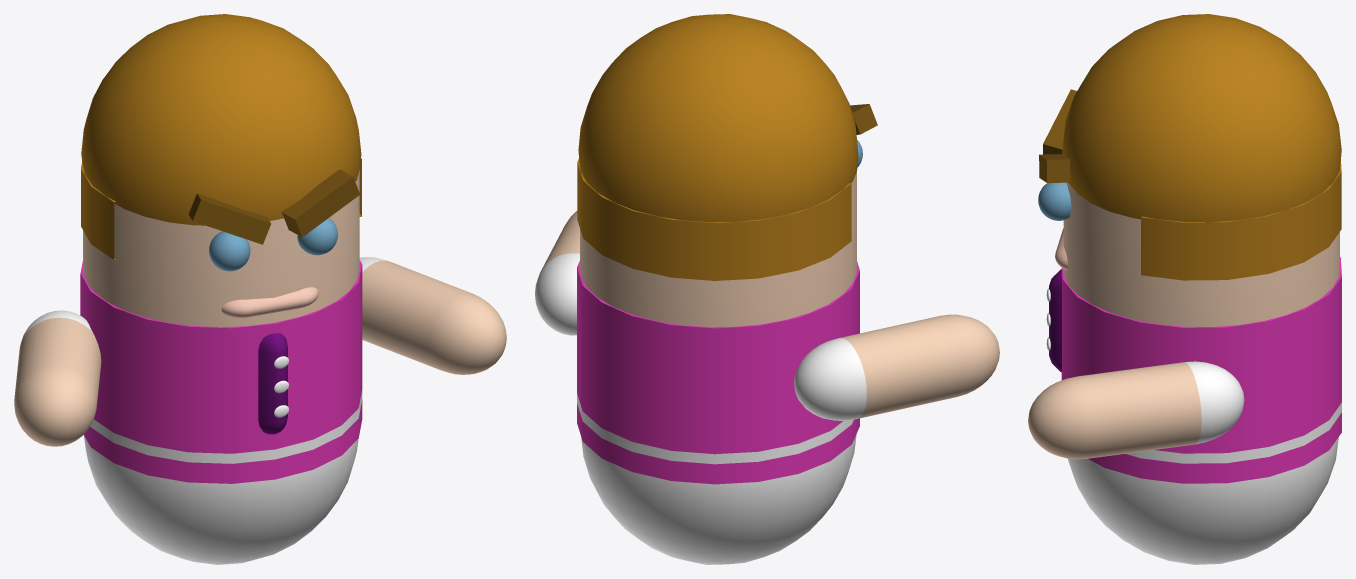
The model's file is karen.fbx.
The picture shows the model from 3 angles, left to right: view 1: azimuth 30°, elevation 25°; view 2: azimuth 150°, elevation 25°; view 3: azimuth 270°, elevation 25°; orthographic projection.
Visible parts, largest first — view 1: Hair, ChefShirt, Body, Pants, RightArm, LeftArm, BottomStripe.001, TopStripe.001, RightEyebrow, Buttons, LeftEyebrow, Mouth (+2 smaller); view 2: Hair, ChefShirt, Pants, Body, LeftArm, BottomStripe.001, LeftSleeve.002, TopStripe.001, RightSleeve.002, RightArm, LeftEyebrow; view 3: Hair, ChefShirt, Pants, Body, RightArm, BottomStripe.001, RightSleeve.002, TopStripe.001, Buttons, RightEye, LeftEyebrow, RightEyebrow.
Boxes of the visible parts, left/top/right/bottom form: Hair: left=81, top=14, right=361, bottom=259; ChefShirt: left=80, top=260, right=362, bottom=453; Body: left=83, top=169, right=359, bottom=327; Pants: left=84, top=436, right=358, bottom=564; RightArm: left=362, top=260, right=506, bottom=374; LeftArm: left=14, top=317, right=101, bottom=446; BottomStripe.001: left=84, top=400, right=362, bottom=483; TopStripe.001: left=90, top=390, right=362, bottom=463; RightEyebrow: left=282, top=169, right=359, bottom=237; Buttons: left=258, top=333, right=287, bottom=434; LeftEyebrow: left=188, top=193, right=271, bottom=244; Mouth: left=221, top=287, right=318, bottom=317; Hair: left=577, top=14, right=858, bottom=280; ChefShirt: left=577, top=261, right=859, bottom=454; Pants: left=581, top=434, right=856, bottom=564; Body: left=580, top=172, right=856, bottom=327; LeftArm: left=840, top=314, right=999, bottom=418; BottomStripe.001: left=577, top=403, right=859, bottom=484; LeftSleeve.002: left=794, top=338, right=866, bottom=420; TopStripe.001: left=577, top=393, right=853, bottom=464; RightSleeve.002: left=535, top=253, right=579, bottom=335; RightArm: left=541, top=211, right=579, bottom=270; LeftEyebrow: left=850, top=104, right=877, bottom=134; Hair: left=1062, top=14, right=1341, bottom=280; ChefShirt: left=1061, top=257, right=1341, bottom=453; Pants: left=1068, top=437, right=1338, bottom=564; Body: left=1063, top=182, right=1339, bottom=326; RightArm: left=1028, top=362, right=1201, bottom=459; BottomStripe.001: left=1088, top=412, right=1341, bottom=483; RightSleeve.002: left=1185, top=361, right=1244, bottom=444; TopStripe.001: left=1125, top=402, right=1341, bottom=463; Buttons: left=1049, top=269, right=1061, bottom=372; RightEye: left=1038, top=182, right=1071, bottom=220; LeftEyebrow: left=1043, top=89, right=1076, bottom=154; RightEyebrow: left=1039, top=154, right=1070, bottom=182.
Size of the model in its own units: 188 by 209 by 113.
